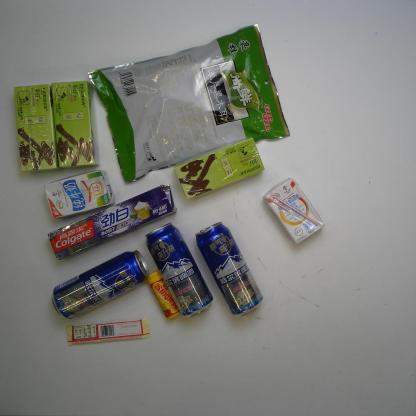Alcohol: (49, 250, 149, 321), (194, 221, 264, 319), (146, 223, 211, 320)
Candy: (146, 270, 180, 320)
Chocolate: (66, 320, 151, 346)
Dried Food: (87, 23, 290, 183)
Instant Drink: (173, 136, 264, 200), (12, 83, 60, 172), (51, 80, 98, 170)
Milk: (264, 180, 323, 246), (44, 171, 110, 219)
Personal Hygiene: (47, 183, 178, 259)
